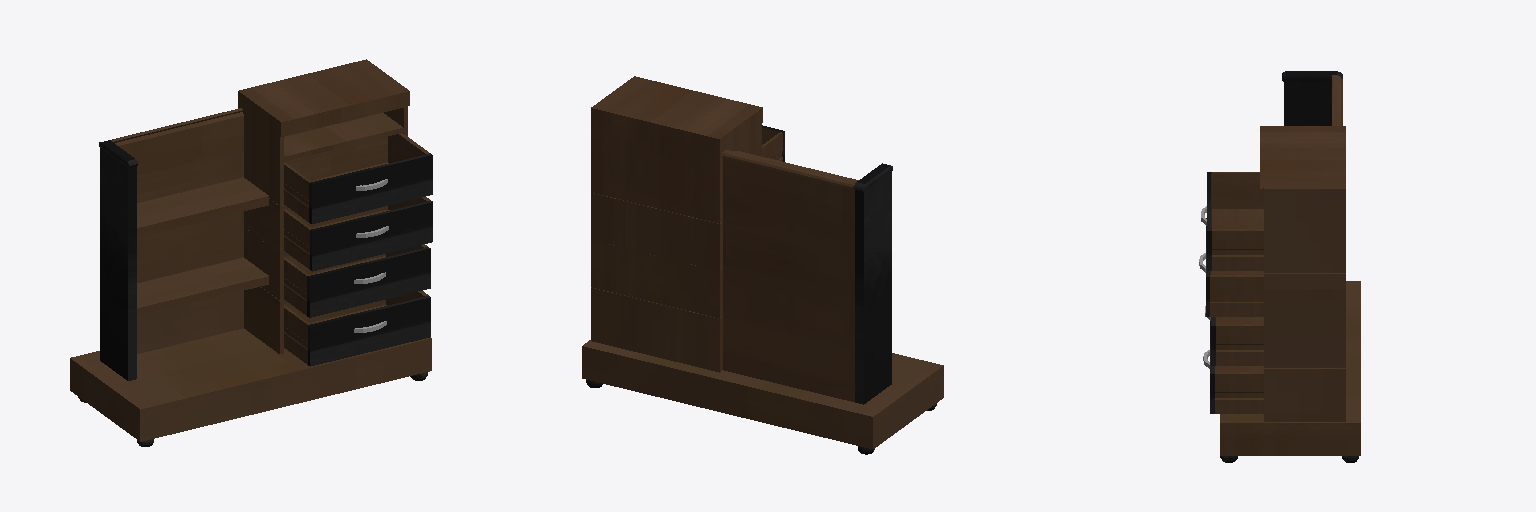
3 renders of one model, left to right at view 1: azimuth 30°, elevation 25°; view 2: azimuth 150°, elevation 25°; view 3: azimuth 270°, elevation 25°, orthographic.
Visible parts, largest first — view 1: Cube_Cube.001, Cube.001_Cube.002, Gaveta_Cube.011, Gaveta.003_Cube.024, Gaveta.001_Cube.022, Gaveta.002_Cube.023; view 2: Cube_Cube.001, Cube.001_Cube.002, Gaveta_Cube.011; view 3: Cube.001_Cube.002, Cube_Cube.001, Gaveta_Cube.011, Gaveta.001_Cube.022, Gaveta.003_Cube.024, Gaveta.002_Cube.023.
Boxes of the visible parts, box(x1,y1,x2,y2) form: Cube_Cube.001: box(70, 108, 431, 441); Cube.001_Cube.002: box(238, 59, 409, 353); Gaveta_Cube.011: box(284, 133, 432, 223); Gaveta.003_Cube.024: box(284, 291, 430, 366); Gaveta.001_Cube.022: box(284, 197, 432, 271); Gaveta.002_Cube.023: box(284, 244, 430, 317); Cube_Cube.001: box(582, 150, 943, 448); Cube.001_Cube.002: box(591, 76, 762, 372); Gaveta_Cube.011: box(762, 125, 784, 161); Cube.001_Cube.002: box(1260, 126, 1345, 421); Cube_Cube.001: box(1220, 71, 1360, 455); Gaveta_Cube.011: box(1201, 172, 1263, 270); Gaveta.001_Cube.022: box(1199, 218, 1263, 316); Gaveta.003_Cube.024: box(1203, 321, 1263, 413); Gaveta.002_Cube.023: box(1205, 306, 1263, 365).
Size of the model in its own units: 17.78 by 16.02 by 8.55.
8 materials, 3 textured.